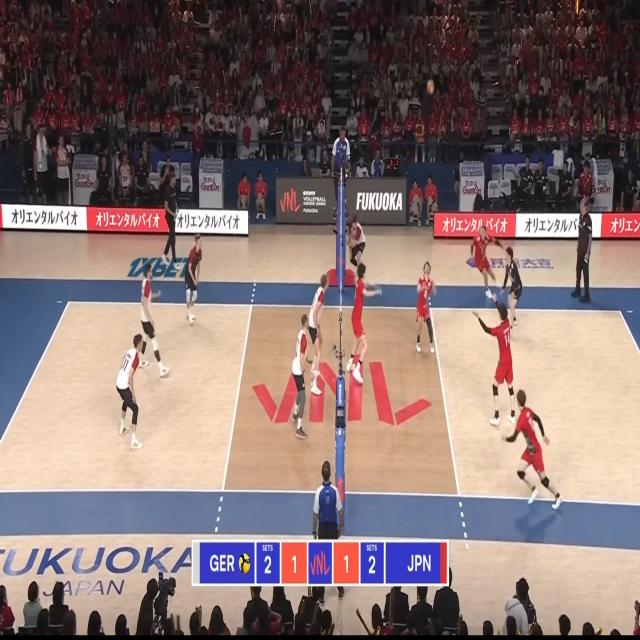ball: (427, 80, 434, 94)
